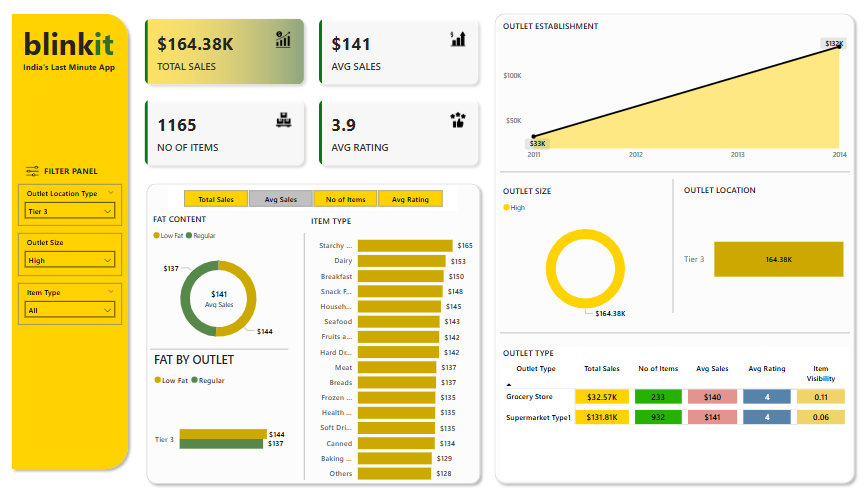

Layout of this report page (visuals, bound fields, positions):
{"tool":"powerbi","page":{"name":"Page 1","canvas":[1400,800],"ordinal":0},"visuals":[{"type":"shape","box":[16.1,27.3,205,750],"z":0},{"type":"textbox","box":[38.6,46.6,167.1,77.1],"z":1000},{"type":"textbox","box":[38.6,107.6,167.1,32.1],"z":2000},{"type":"cardVisual","fields":{"Data":["BlinkIT Grocery Data.Total Sales","BlinkIT Grocery Data.Avg Sales","BlinkIT Grocery Data.No of Items","BlinkIT Grocery Data.Avg Rating"]},"box":[221.5,27.7,570.8,270.8],"z":3000},{"type":"shape","box":[232.3,300,553.8,500],"z":4000},{"type":"donutChart","title":"FAT CONTENT","fields":{"Y":["BlinkIT Grocery Data.Total Sales"],"Category":["BlinkIT Grocery Data.Item Fat Content"]},"box":[247.7,356.9,220,230.8],"z":5000},{"type":"slicer","fields":{"Values":["Metrics.Metrics"]},"box":[276.9,313.8,464.6,40],"z":6000},{"type":"cardVisual","fields":{"Data":["BlinkIT Grocery Data.Total Sales"]},"box":[307.7,461.5,100,53.8],"z":7000},{"type":"clusteredBarChart","title":"FAT BY OUTLET","fields":{"Y":["BlinkIT Grocery Data.Total Sales"],"Category":["BlinkIT Grocery Data.Outlet Location Type"],"Series":["BlinkIT Grocery Data.Item Fat Content"]},"box":[249,579.9,220.1,220.1],"z":8000},{"type":"shape","box":[246.7,563.3,221.7,23.3],"z":9000},{"type":"shape","box":[480,388.3,30,396.7],"z":10000},{"type":"barChart","title":"ITEM TYPE","fields":{"Y":["BlinkIT Grocery Data.Total Sales"],"Category":["BlinkIT Grocery Data.Item Type"]},"box":[501.7,360,270,440],"z":11000},{"type":"shape","box":[792,27.3,596,772.7],"z":12000},{"type":"lineChart","title":"OUTLET ESTABLISHMENT","fields":{"Y":["BlinkIT Grocery Data.Total Sales"],"Category":["BlinkIT Grocery Data.Outlet Establishment Year"]},"box":[809.6,46.6,562.2,234.5],"z":13000},{"type":"shape","box":[809.6,279.5,562.2,22.5],"z":14000},{"type":"donutChart","title":"OUTLET SIZE","fields":{"Y":["BlinkIT Grocery Data.Total Sales"],"Category":["BlinkIT Grocery Data.Outlet Size"]},"box":[809.6,311.6,274.7,224.9],"z":15000},{"type":"shape","box":[1074.7,302,25.7,215.3],"z":16000},{"type":"funnel","title":"OUTLET LOCATION","fields":{"Y":["Sum(BlinkIT Grocery Data.Sales)"],"Category":["BlinkIT Grocery Data.Outlet Location Type"]},"box":[1100.4,310,271.5,224.9],"z":17000},{"type":"shape","box":[809.6,538.2,562.2,22.5],"z":18000},{"type":"pivotTable","title":"OUTLET TYPE","fields":{"Rows":["BlinkIT Grocery Data.Outlet Type"],"Values":["BlinkIT Grocery Data.Total Sales","BlinkIT Grocery Data.No of Items","BlinkIT Grocery Data.Avg Sales","BlinkIT Grocery Data.Avg Rating","Avg(BlinkIT Grocery Data.Item Visibility)"]},"box":[809.6,571.9,562.2,213.7],"z":19000},{"type":"slicer","fields":{"Values":["BlinkIT Grocery Data.Outlet Location Type"]},"box":[35.3,310,167.1,67.5],"z":20000},{"type":"slicer","fields":{"Values":["BlinkIT Grocery Data.Outlet Size"]},"box":[35.3,388.8,167.1,69.1],"z":21000},{"type":"slicer","fields":{"Values":["BlinkIT Grocery Data.Item Type"]},"box":[35.3,469.1,167.1,67.5],"z":22000},{"type":"textbox","box":[72.3,274.7,109.2,30.5],"z":23000},{"type":"image","box":[38.6,269.9,40.2,38.6],"z":24000}]}

Visuals, with their boxes in screenshot pixels (x1, y1, x2, y2), scaled from the page's 1400x800 canvas onto the 865x488 screenshot:
shape: (x1=10, y1=17, x2=137, y2=474)
textbox: (x1=24, y1=28, x2=127, y2=75)
textbox: (x1=24, y1=66, x2=127, y2=85)
cardVisual - BlinkIT Grocery Data.Total Sales x BlinkIT Grocery Data.Avg Sales: (x1=137, y1=17, x2=490, y2=182)
shape: (x1=144, y1=183, x2=486, y2=487)
"FAT CONTENT" donutChart: (x1=153, y1=218, x2=289, y2=358)
slicer - Metrics.Metrics: (x1=171, y1=191, x2=458, y2=216)
cardVisual - BlinkIT Grocery Data.Total Sales: (x1=190, y1=282, x2=252, y2=314)
"FAT BY OUTLET" clusteredBarChart: (x1=154, y1=354, x2=290, y2=487)
shape: (x1=152, y1=344, x2=289, y2=358)
shape: (x1=297, y1=237, x2=315, y2=479)
"ITEM TYPE" barChart: (x1=310, y1=220, x2=477, y2=487)
shape: (x1=489, y1=17, x2=858, y2=487)
"OUTLET ESTABLISHMENT" lineChart: (x1=500, y1=28, x2=848, y2=171)
shape: (x1=500, y1=170, x2=848, y2=184)
"OUTLET SIZE" donutChart: (x1=500, y1=190, x2=670, y2=327)
shape: (x1=664, y1=184, x2=680, y2=316)
"OUTLET LOCATION" funnel: (x1=680, y1=189, x2=848, y2=326)
shape: (x1=500, y1=328, x2=848, y2=342)
"OUTLET TYPE" pivotTable: (x1=500, y1=349, x2=848, y2=479)
slicer - BlinkIT Grocery Data.Outlet Location Type: (x1=22, y1=189, x2=125, y2=230)
slicer - BlinkIT Grocery Data.Outlet Size: (x1=22, y1=237, x2=125, y2=279)
slicer - BlinkIT Grocery Data.Item Type: (x1=22, y1=286, x2=125, y2=327)
textbox: (x1=45, y1=168, x2=112, y2=186)
image: (x1=24, y1=165, x2=49, y2=188)
